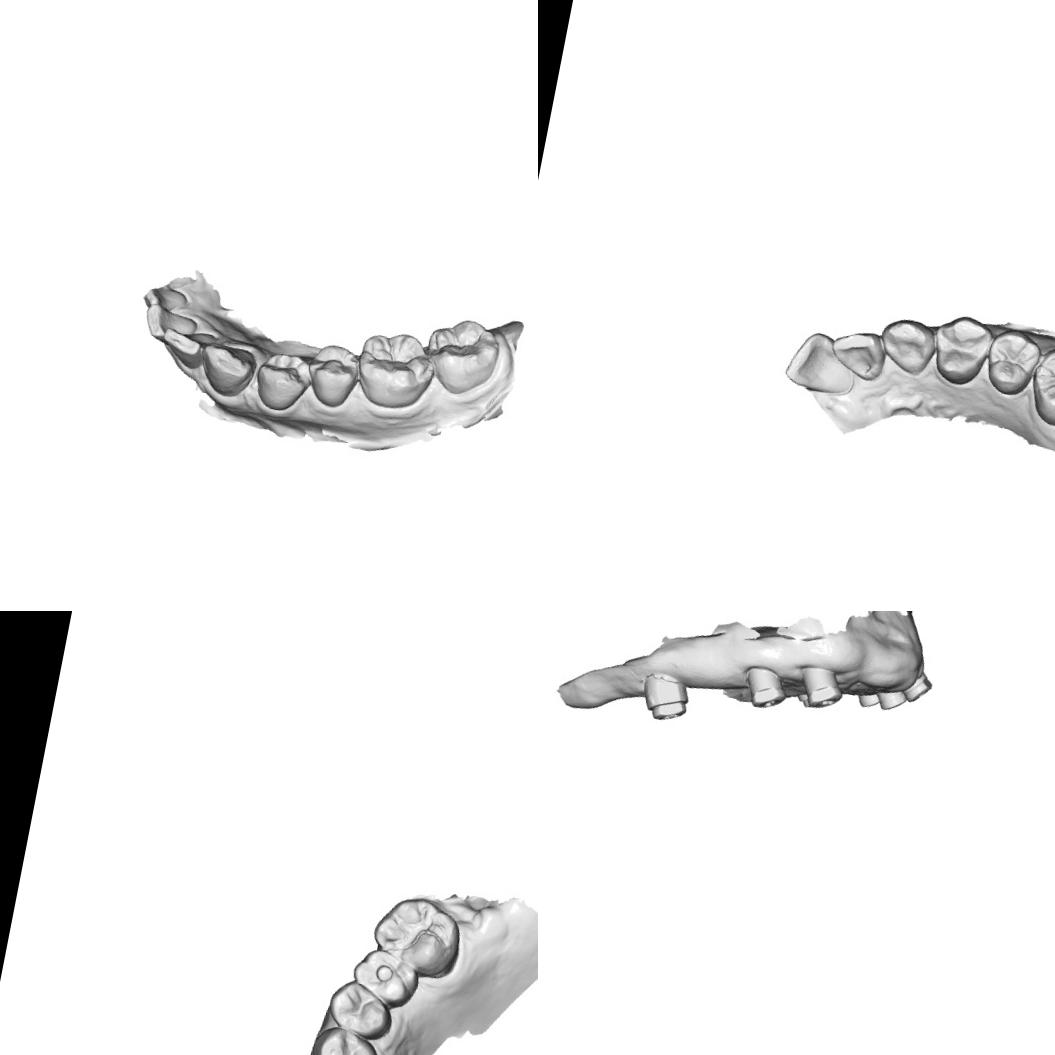canine: (872, 312, 940, 378), (192, 338, 258, 401)
implant: (635, 669, 694, 726), (792, 661, 848, 714), (739, 662, 791, 712), (898, 666, 936, 706), (873, 684, 908, 713), (853, 687, 881, 710)
incisor: (780, 326, 861, 400), (825, 324, 890, 382), (156, 321, 220, 373), (140, 301, 199, 345), (141, 282, 190, 314)
molar: (365, 889, 468, 982), (348, 323, 442, 417), (416, 310, 506, 402), (345, 944, 425, 1012), (1021, 340, 1055, 435)
premolar: (925, 309, 996, 391), (322, 975, 398, 1044), (979, 323, 1046, 401), (248, 346, 317, 418), (302, 338, 364, 411), (304, 1020, 385, 1055)
